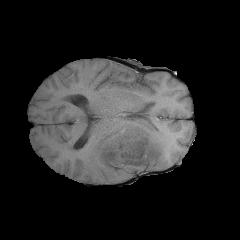glioma: (61, 118, 173, 182)
